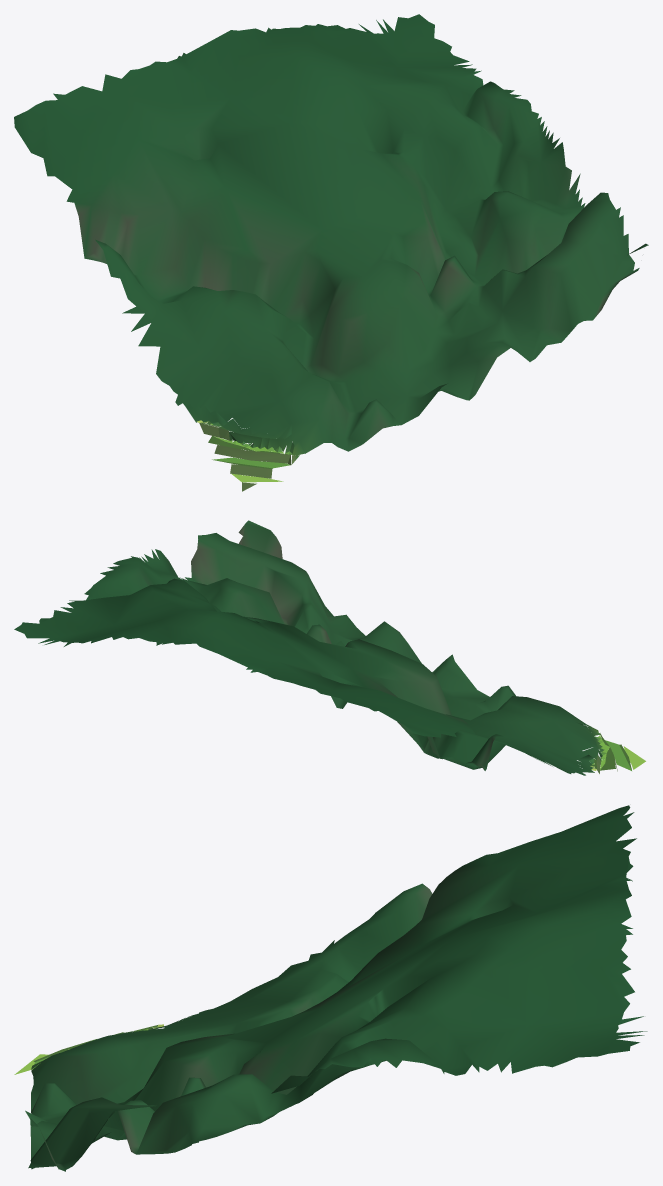
Rendered from payo_land_xm4_y5_lod2.glb.
The picture shows the model from 3 angles, top to bottom: view 1: azimuth 30°, elevation 25°; view 2: azimuth 150°, elevation 25°; view 3: azimuth 270°, elevation 25°; orthographic projection. The views are drawn at different scales.
Parts seen in each view (by area): view 1: payo_land_xm4_y5; view 2: payo_land_xm4_y5; view 3: payo_land_xm4_y5.
Part boxes in pixels (x1=…): payo_land_xm4_y5: x1=14, y1=14, x2=648, y2=491; payo_land_xm4_y5: x1=14, y1=520, x2=645, y2=775; payo_land_xm4_y5: x1=14, y1=805, x2=647, y2=1171.
Size of the model in its own units: 267 by 145 by 272.
